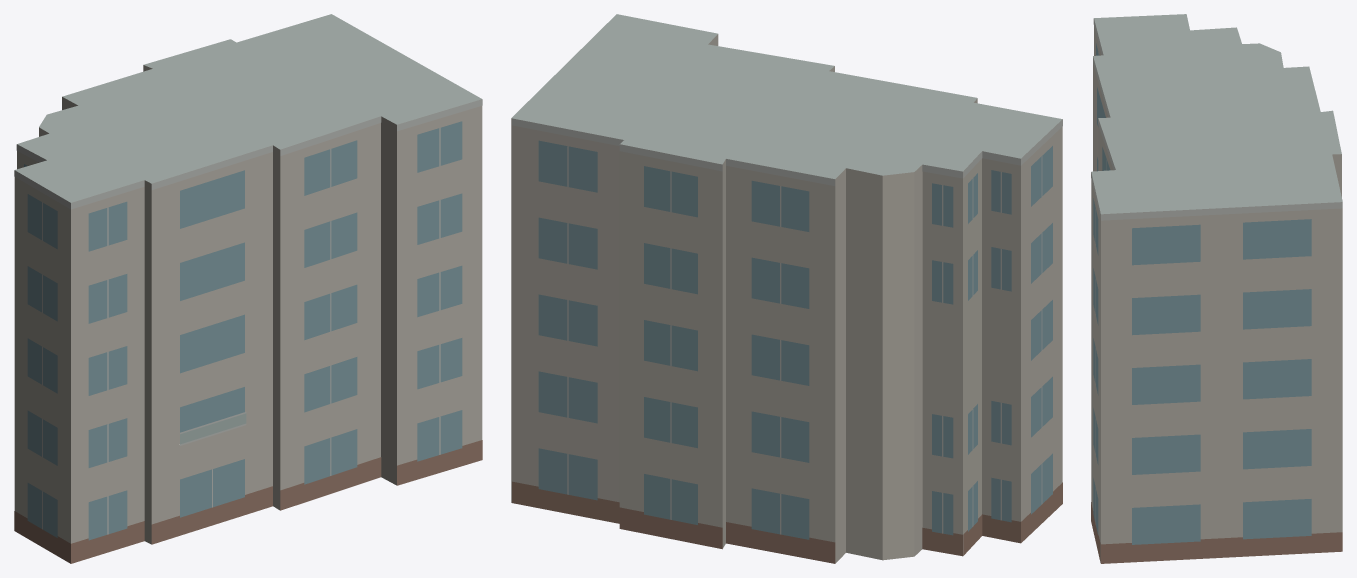
Rendered from survey-upis-32605562.glb.
3 views of the same model, side by side, from view 1: azimuth 30°, elevation 25°; view 2: azimuth 150°, elevation 25°; view 3: azimuth 270°, elevation 25° (orthographic). The views are drawn at different scales.
Parts seen in each view (by area): view 1: survey-upis-32605562.tmp; view 2: survey-upis-32605562.tmp; view 3: survey-upis-32605562.tmp.
Boxes of the visible parts, x1,y1,x2,y2 form: survey-upis-32605562.tmp: (14, 14, 482, 563); survey-upis-32605562.tmp: (511, 14, 1062, 563); survey-upis-32605562.tmp: (1091, 14, 1342, 563).
Size of the model in its own units: 16.47 by 13.4 by 8.75.
